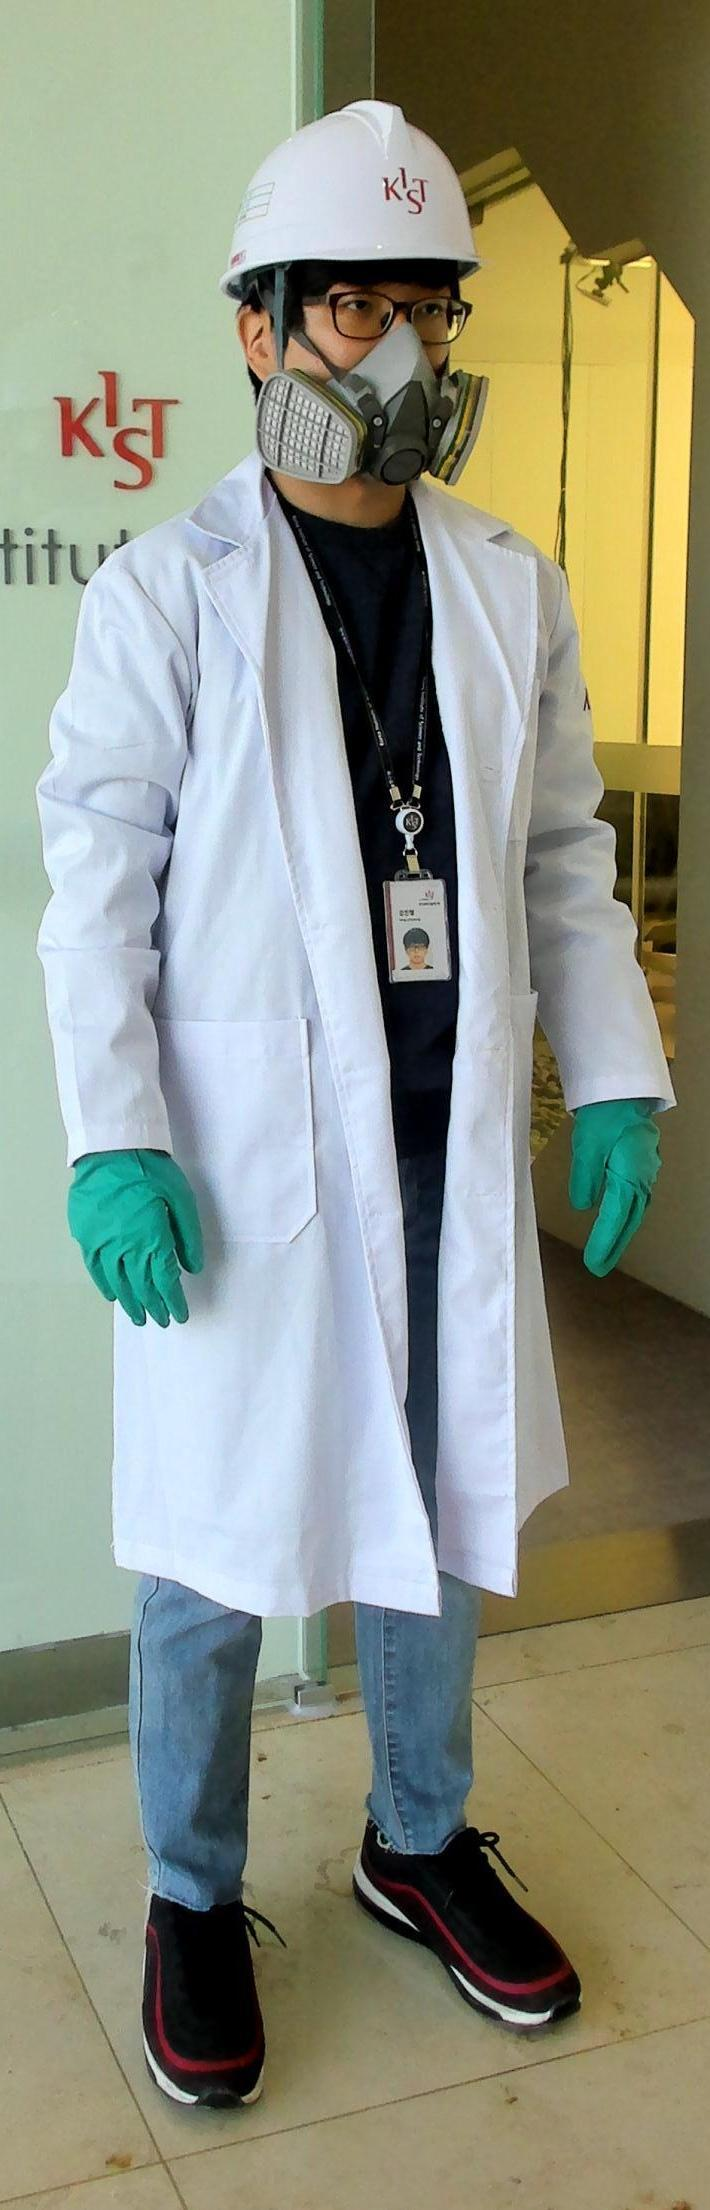lab_coat: (172, 540, 576, 1597)
